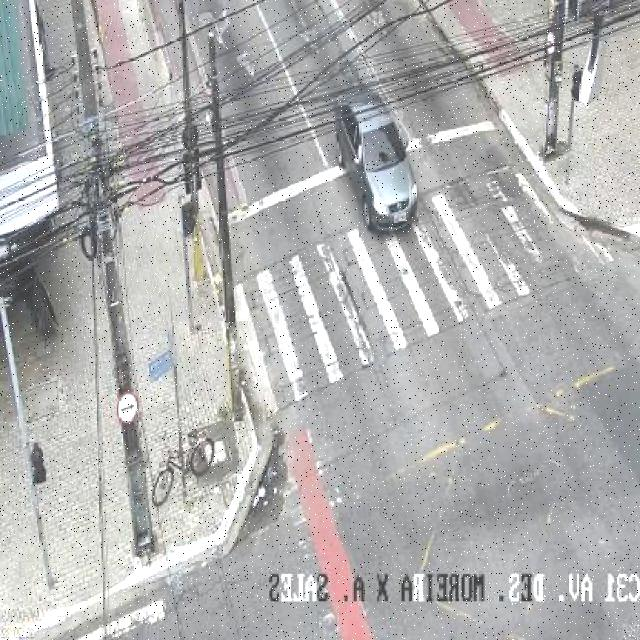Car: (329, 61, 428, 252)
